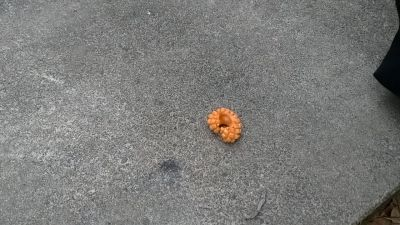eggs: (205, 104, 245, 145)
